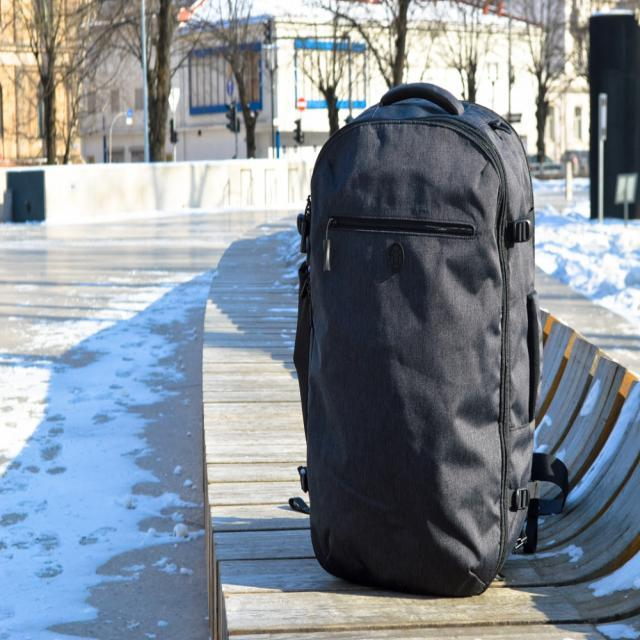Backpacks: (296, 82, 569, 590)
